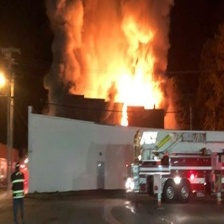fire: (98, 63, 161, 120)
smoke: (31, 1, 180, 84)
